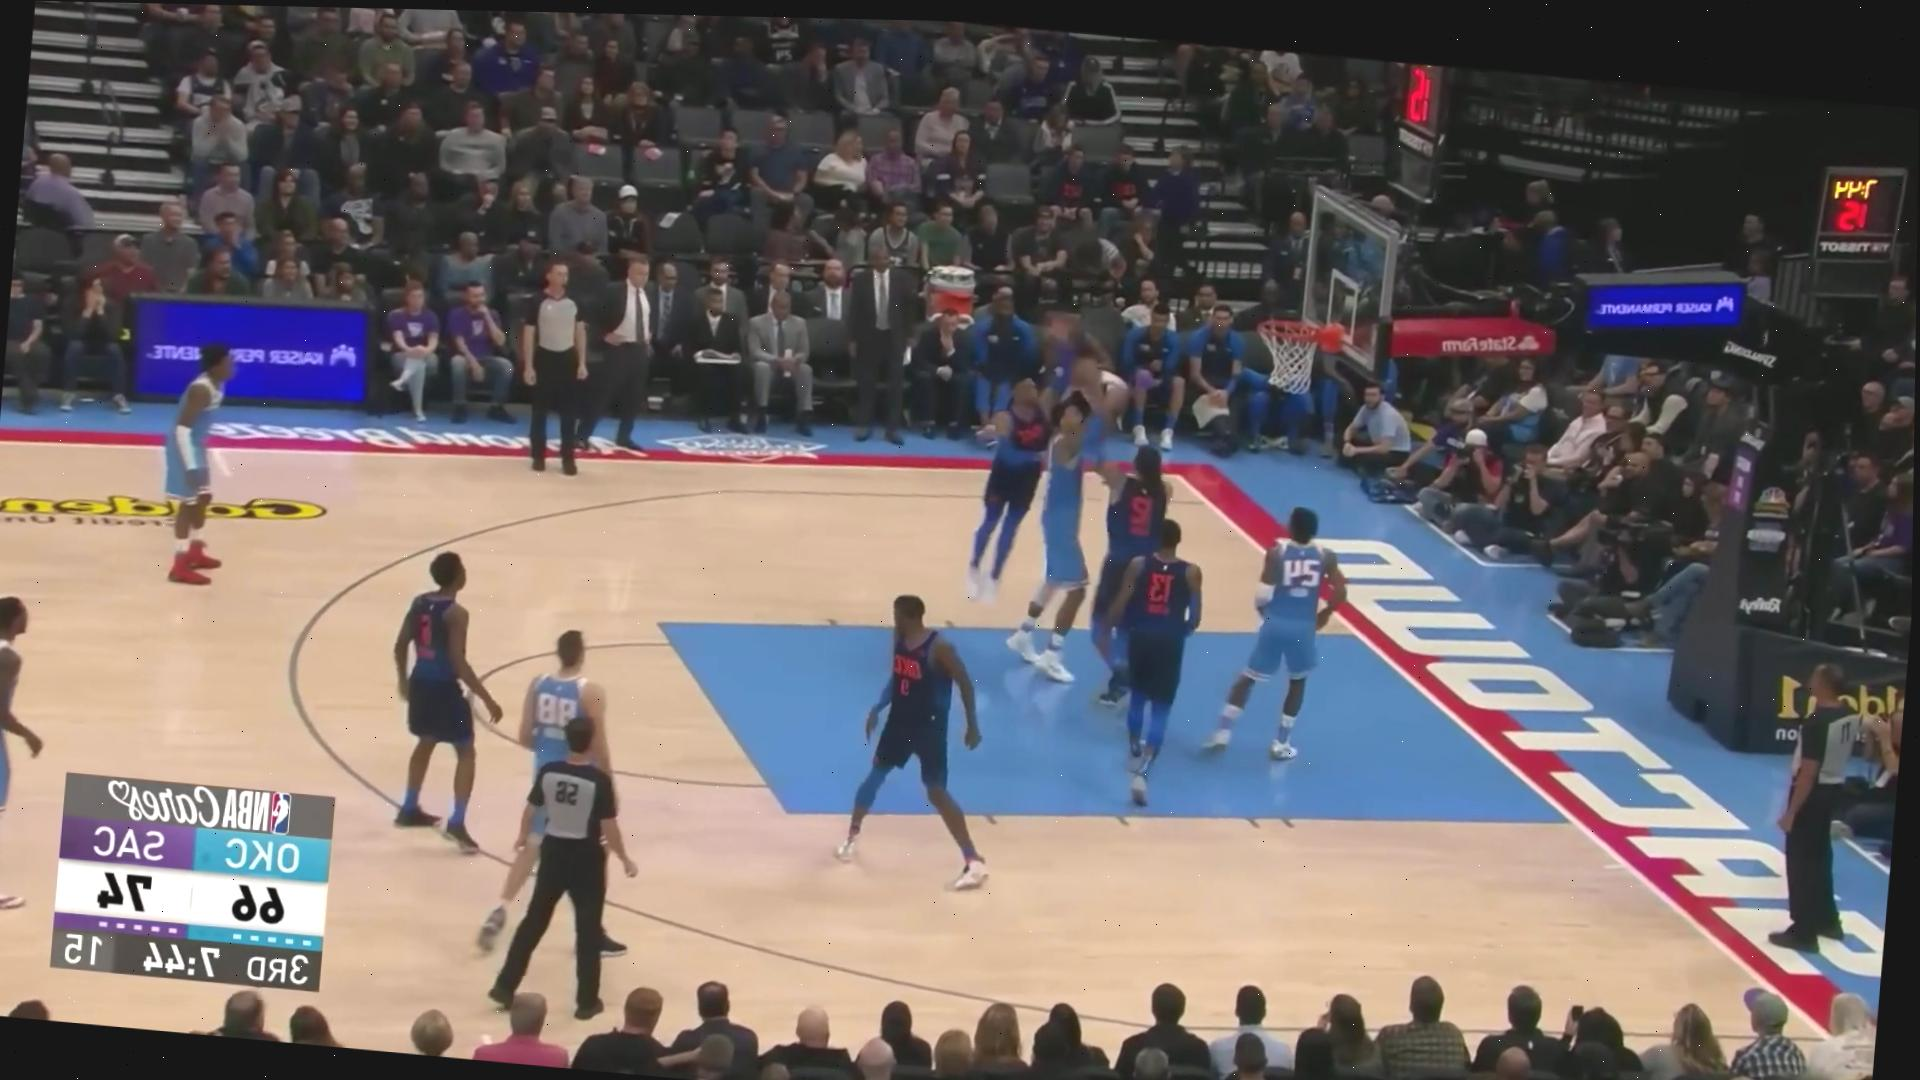foul: (938, 330, 1194, 688)
